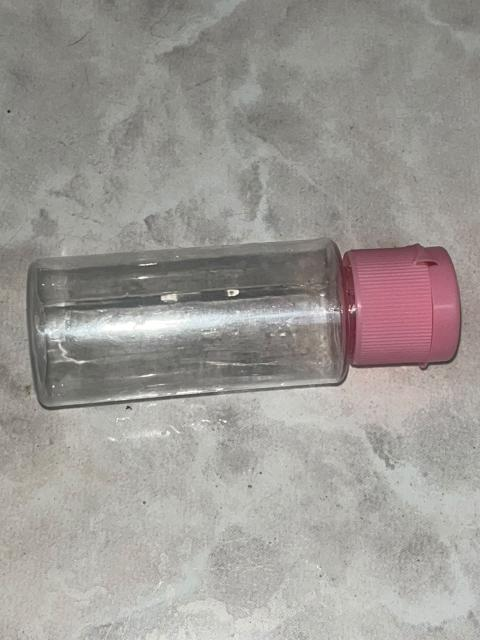PET: (16, 223, 469, 406)
